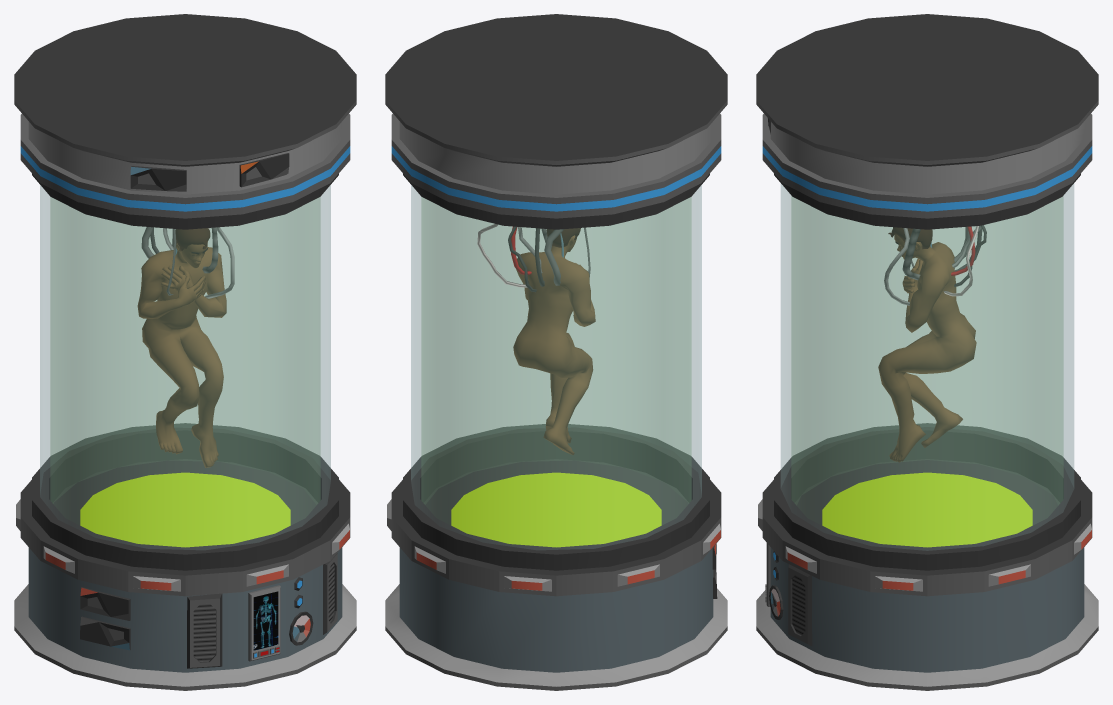
Rendered from Human_Tank_5.fbx.
The picture shows the model from 3 angles, left to right: view 1: azimuth 30°, elevation 25°; view 2: azimuth 150°, elevation 25°; view 3: azimuth 270°, elevation 25°; orthographic projection.
Parts seen in each view (by area): view 1: Human_Tank_5, Human5; view 2: Human_Tank_5, Human5; view 3: Human_Tank_5, Human5.
Part boxes in pixels (<box>): Human_Tank_5: <box>14,14,356,690</box>; Human5: <box>137,227,234,467</box>; Human_Tank_5: <box>385,14,727,690</box>; Human5: <box>477,224,595,454</box>; Human_Tank_5: <box>756,14,1098,690</box>; Human5: <box>878,225,986,462</box>.
Bounding box in the file's own units: 221 × 372 × 218.
